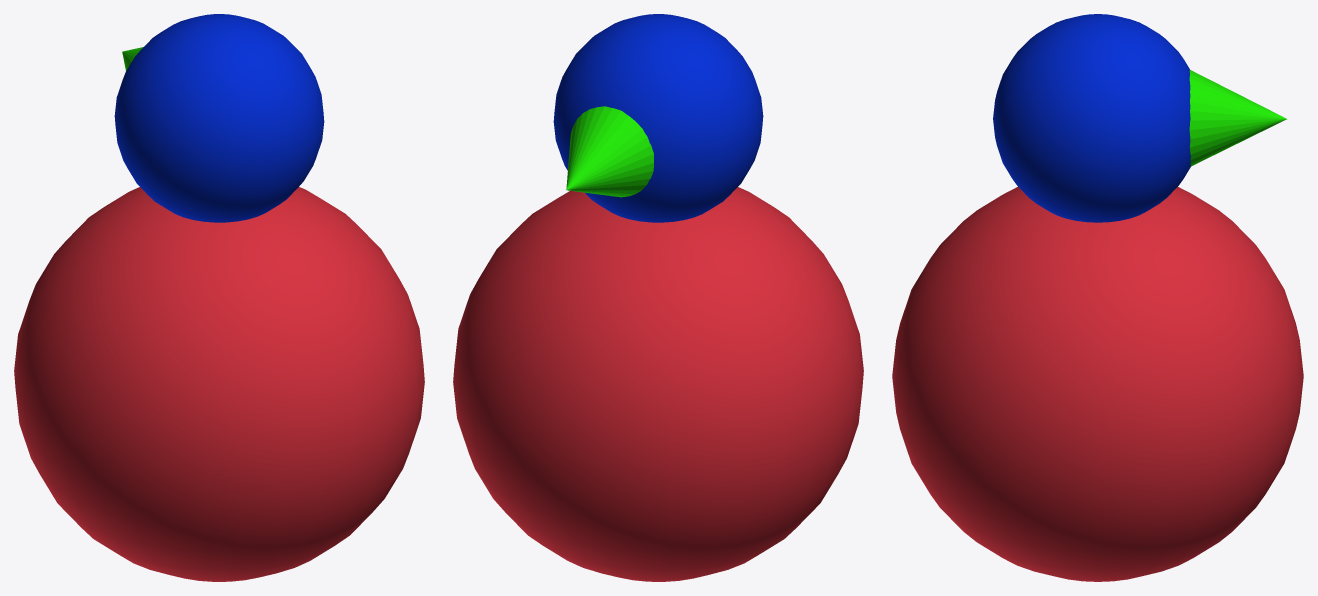
File: Bouboule.dae
3 renders of one model, left to right at view 1: azimuth 30°, elevation 25°; view 2: azimuth 150°, elevation 25°; view 3: azimuth 270°, elevation 25°, orthographic.
Visible parts, largest first — view 1: Sphere; view 2: Sphere, Cone; view 3: Sphere, Cone.
Boxes of the visible parts, x1,y1,x2,y2 form: Sphere: [14, 14, 424, 581]; Sphere: [453, 14, 863, 581]; Cone: [566, 106, 653, 197]; Sphere: [892, 14, 1303, 581]; Cone: [1189, 70, 1286, 166].
Bounding box in the file's own units: 2 × 2 × 2.89.
